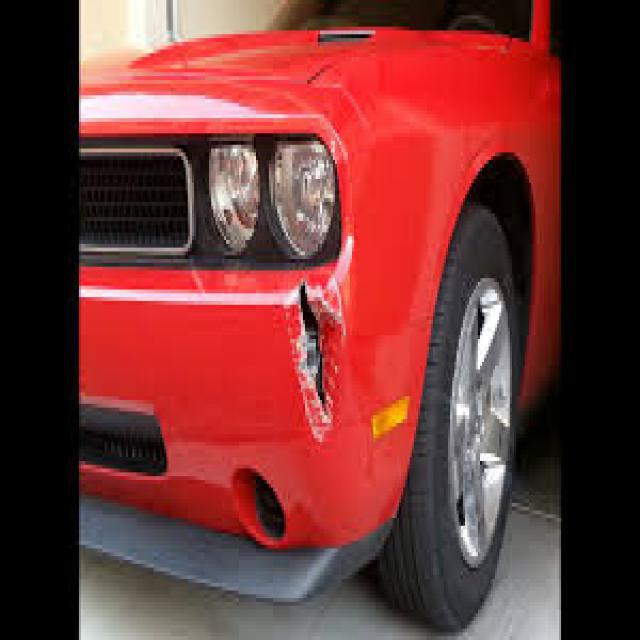front-bumper-dent: (179, 244, 448, 629)
